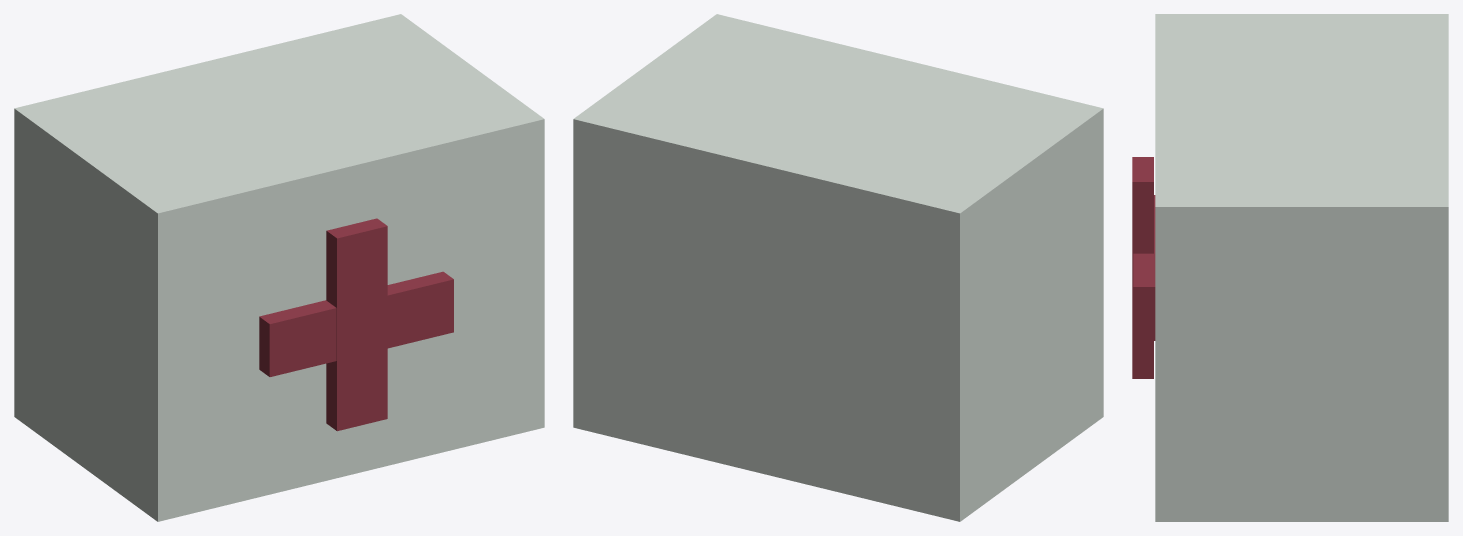
File: Interior_Med_Kit.glb
The picture shows the model from 3 angles, left to right: view 1: azimuth 30°, elevation 25°; view 2: azimuth 150°, elevation 25°; view 3: azimuth 270°, elevation 25°; orthographic projection. The views are drawn at different scales.
Parts seen in each view (by area): view 1: Interior_Med_Kit; view 2: Interior_Med_Kit; view 3: Interior_Med_Kit.
Part boxes in pixels (x1=…): Interior_Med_Kit: x1=14, y1=14, x2=544, y2=521; Interior_Med_Kit: x1=573, y1=14, x2=1103, y2=521; Interior_Med_Kit: x1=1132, y1=14, x2=1448, y2=521.
Size of the model in its own units: 0.42 by 0.32 by 0.291.
